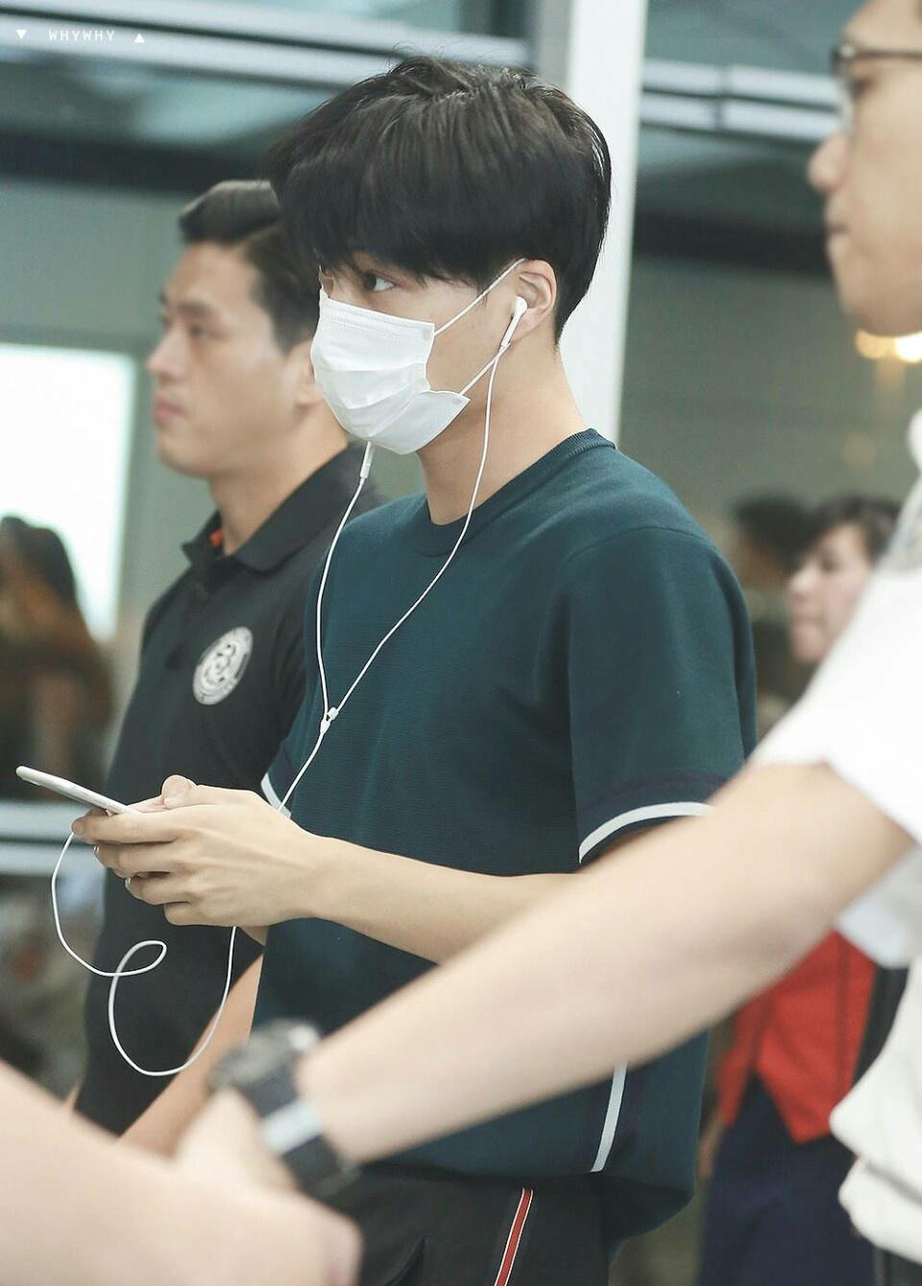NONE: (150, 286, 309, 484), (813, 52, 922, 334), (793, 542, 882, 651)
OK: (290, 222, 527, 459)
